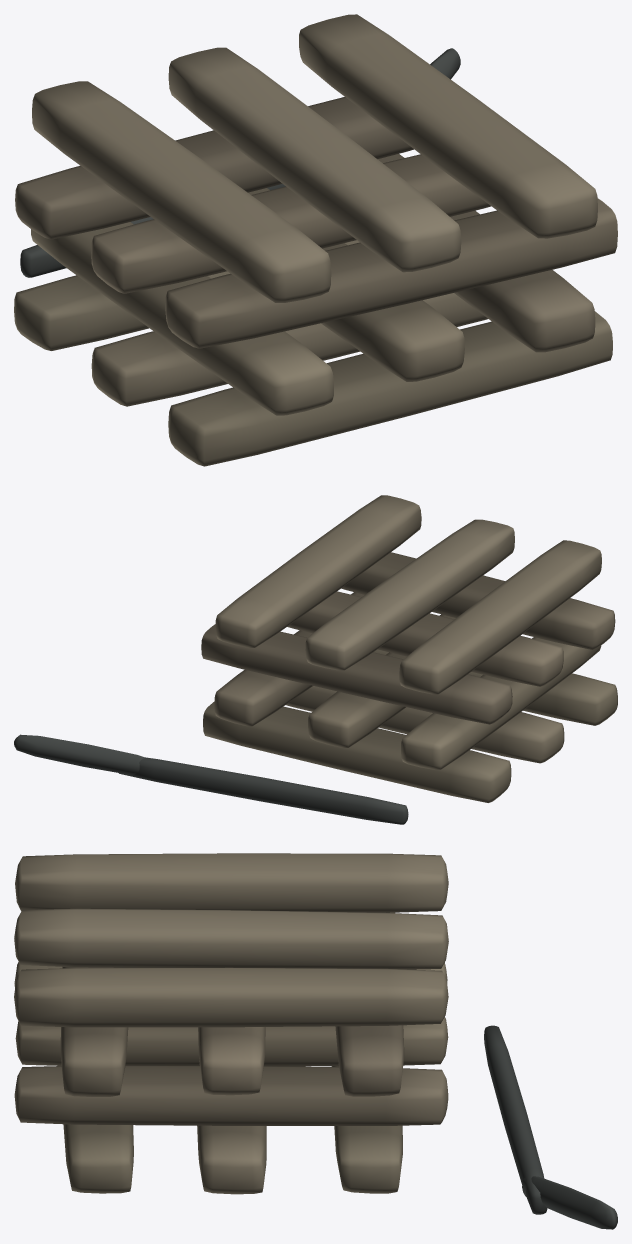
The model's file is sleeper_stack_a.glb.
3 views of the same model, one above another, from view 1: azimuth 30°, elevation 25°; view 2: azimuth 150°, elevation 25°; view 3: azimuth 270°, elevation 25° (orthographic). The views are drawn at different scales.
Parts seen in each view (by area): view 1: Surface; view 2: Surface; view 3: Surface.
Boxes of the visible parts, <box> form: Surface: <box>14,14,617,466</box>; Surface: <box>14,495,617,824</box>; Surface: <box>14,853,617,1229</box>.
Size of the model in its own units: 2.15 by 0.7917 by 2.23.
